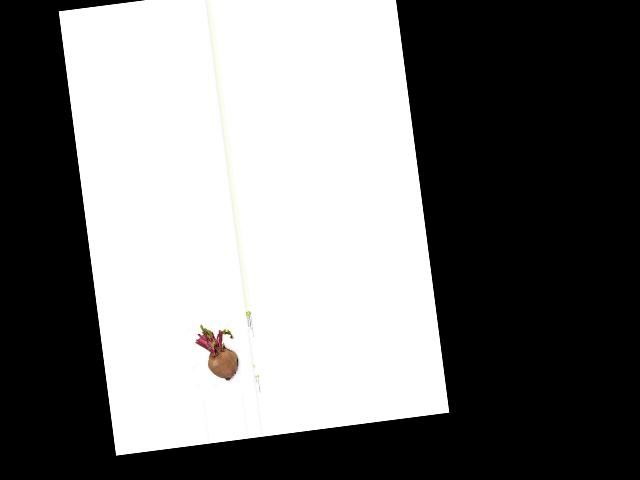beet: (193, 321, 239, 384)
